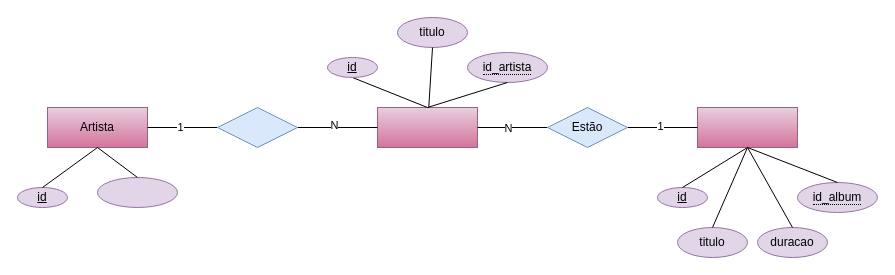
The diagram is 895 pixels wide and 275 high, and some of its shapes have lost their labels. Here are the shapes that lost their labels. From the top down, the centre of each, then its label:
pixel 257 127: Possui
pixel 427 127: Albuns
pixel 747 127: Faixas
pixel 137 192: nome
